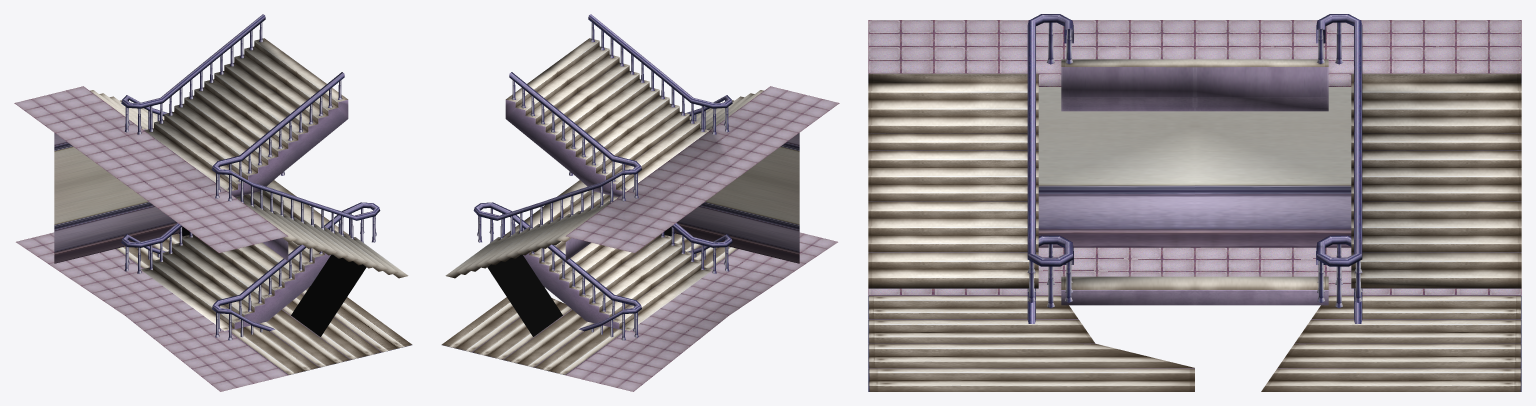
Rendered from a_SCgen02.glb.
3 views of the same model, side by side, from view 1: azimuth 30°, elevation 25°; view 2: azimuth 150°, elevation 25°; view 3: azimuth 270°, elevation 25° (orthographic). The views are drawn at different scales.
Parts seen in each view (by area): view 1: a_SCgen02; view 2: a_SCgen02; view 3: a_SCgen02.
Boxes of the visible parts, x1,y1,x2,y2 form: a_SCgen02: [14, 14, 412, 391]; a_SCgen02: [441, 14, 839, 391]; a_SCgen02: [868, 14, 1521, 391].
Bounding box in the file's own units: 6.98 × 7.6 × 11.51.
3 materials, 3 textured.
